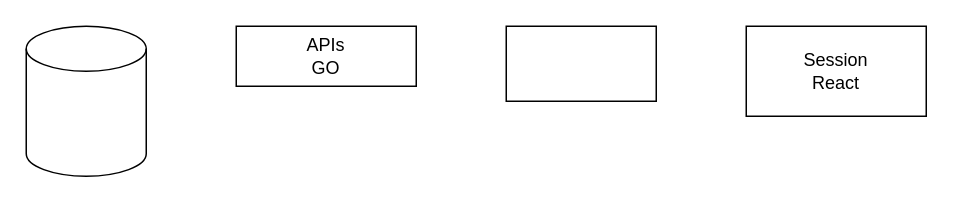
Image size: 953x203. Some labels were removed from this diagram. Here are the shapes that lost their labels. From the top down, the centre of each, then its label:
At [580,63]: "Auth GO".
At [85,100]: "MongoDB".
